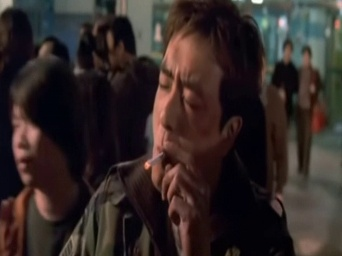smoke: (145, 149, 164, 169)
